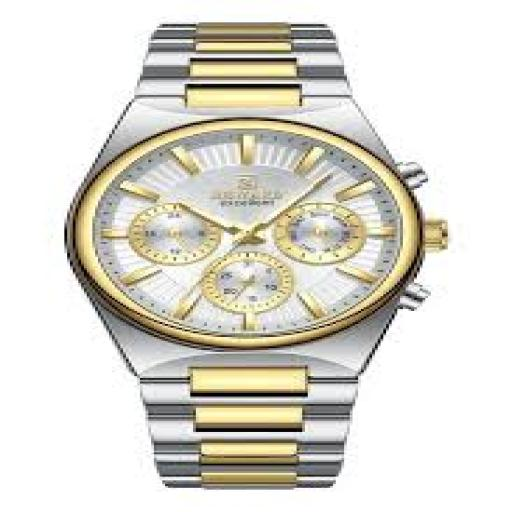KolSaati: (43, 9, 464, 499)
